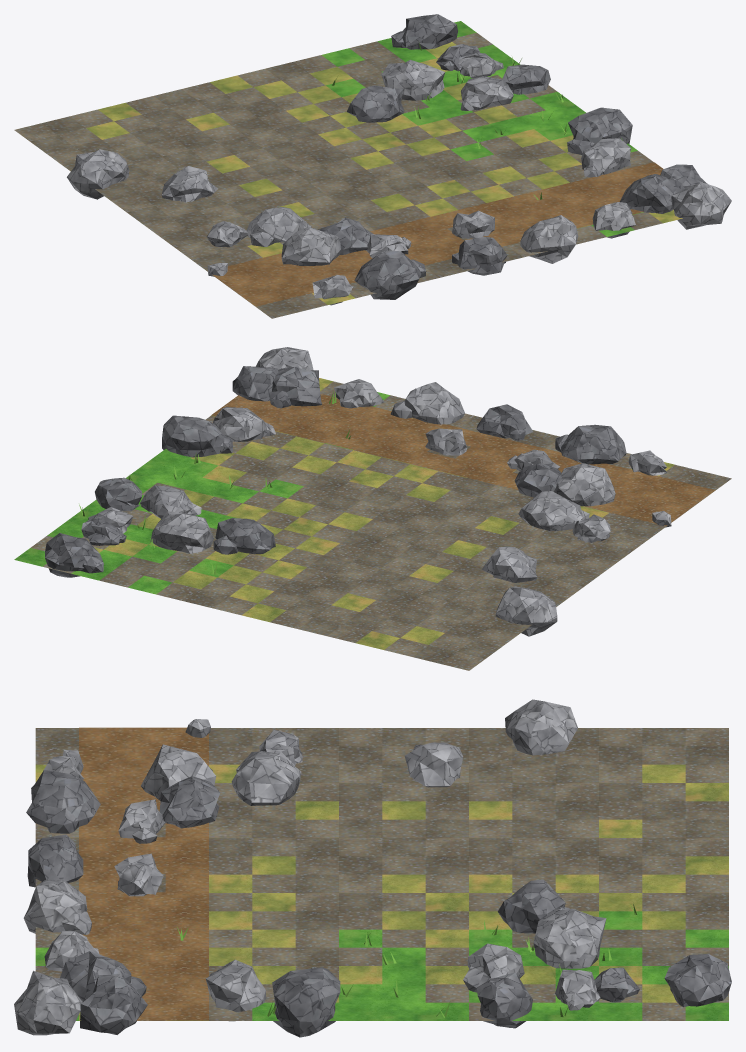
The model's file is chunk_7_17.glb.
3 renders of one model, top to bottom at view 1: azimuth 30°, elevation 25°; view 2: azimuth 150°, elevation 25°; view 3: azimuth 270°, elevation 25°, orthographic. The views are drawn at different scales.
Visible parts, largest first — view 1: chunk_7_17; view 2: chunk_7_17; view 3: chunk_7_17.
Boxes of the visible parts, box(x1,y1,x2,y2) form: chunk_7_17: box(14, 14, 731, 318); chunk_7_17: box(14, 347, 731, 670); chunk_7_17: box(14, 699, 731, 1037).
Size of the model in its own units: 17 by 1.63 by 16.57.
Materials: 8 (7 with a texture image).
